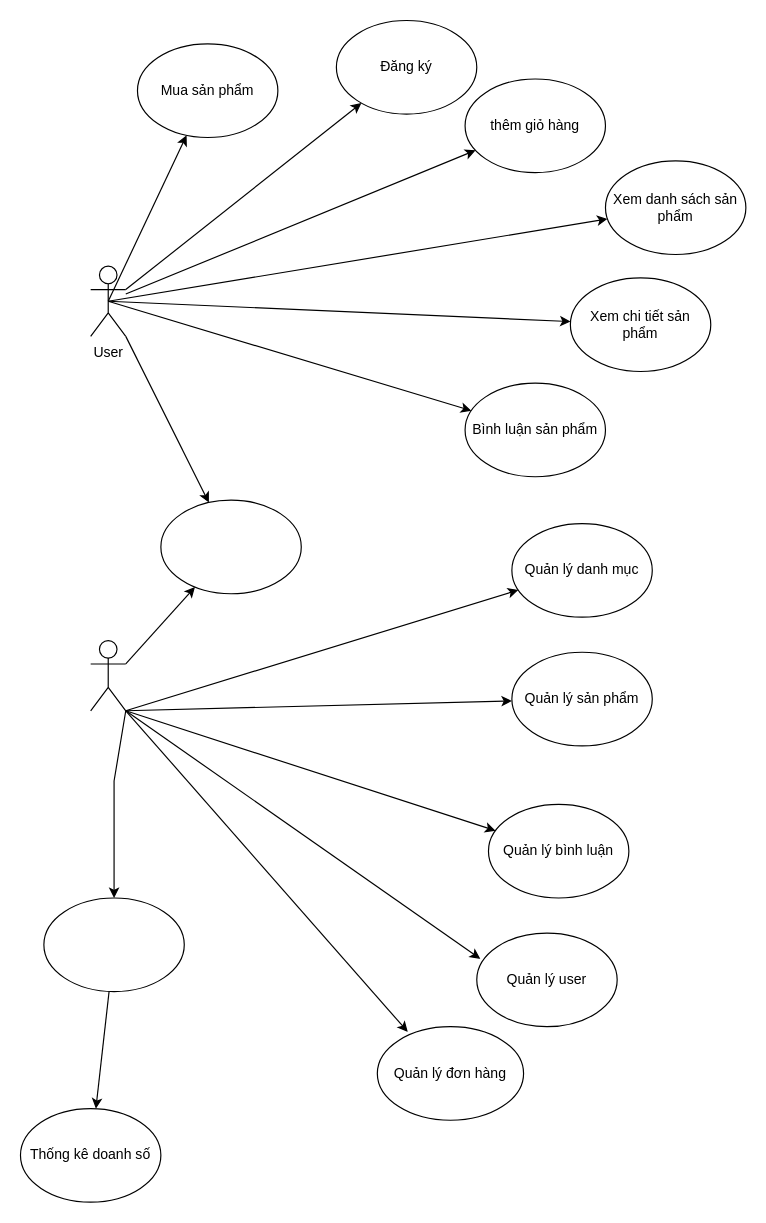
Image size: 766x1223. Some labels were removed from this diagram. Each missing label, with the centre of its shape:
Admin: point (108, 675)
Thống kê Doanh sô: point (113, 944)
Đăng nhập: point (230, 546)
